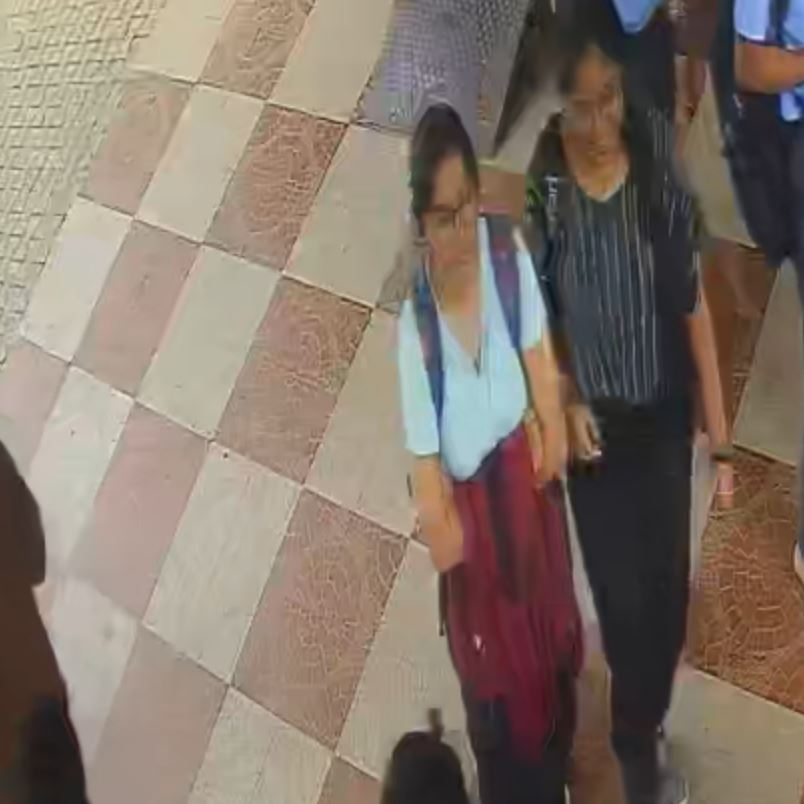intruder: (527, 15, 722, 767), (377, 93, 577, 804)
